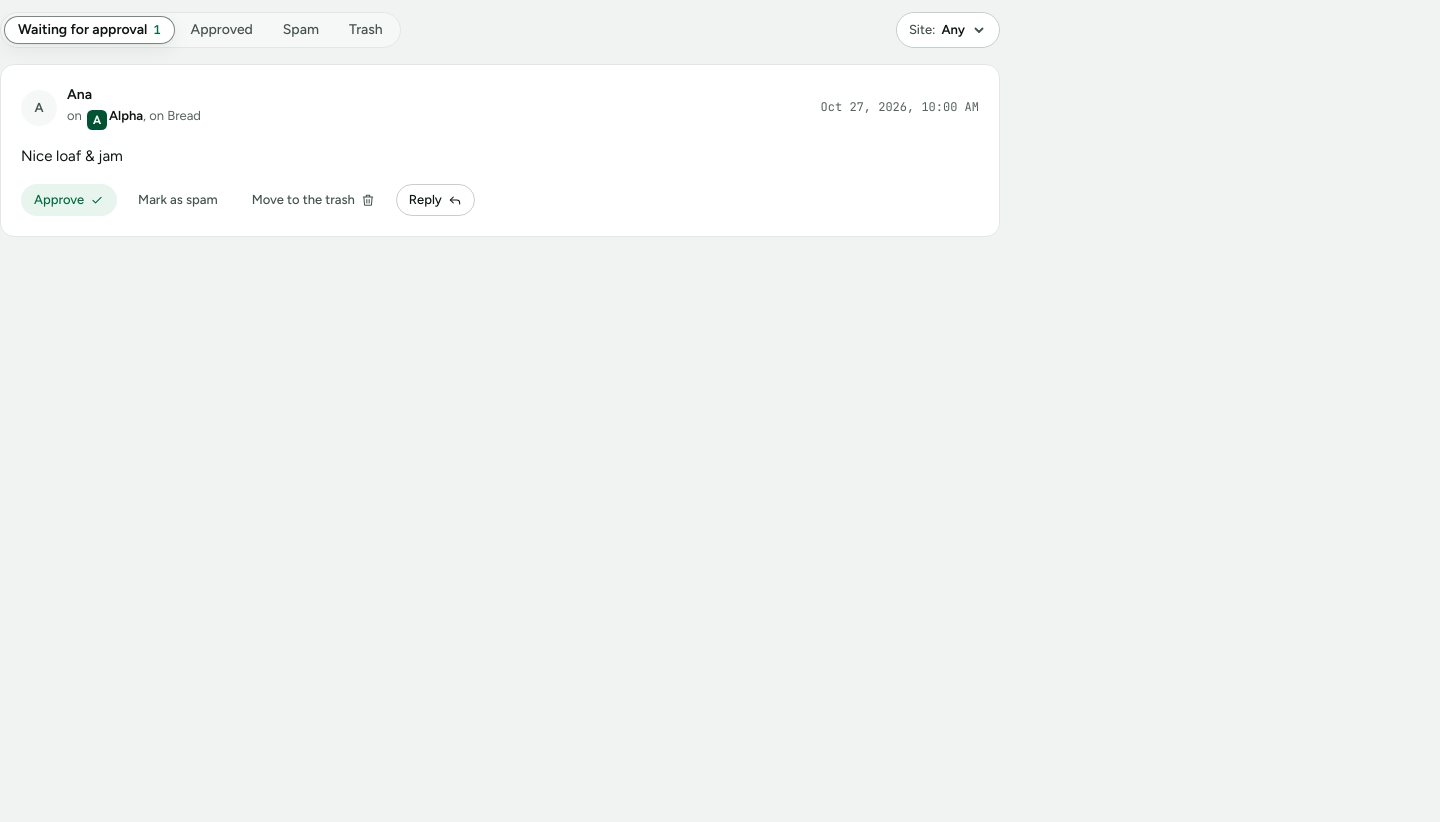
Test: Comments › approves, replies and switches lists
Click the button with aria-label "Approve Ana's comment on Alpha" at (69, 200), box [21,184,117,216]
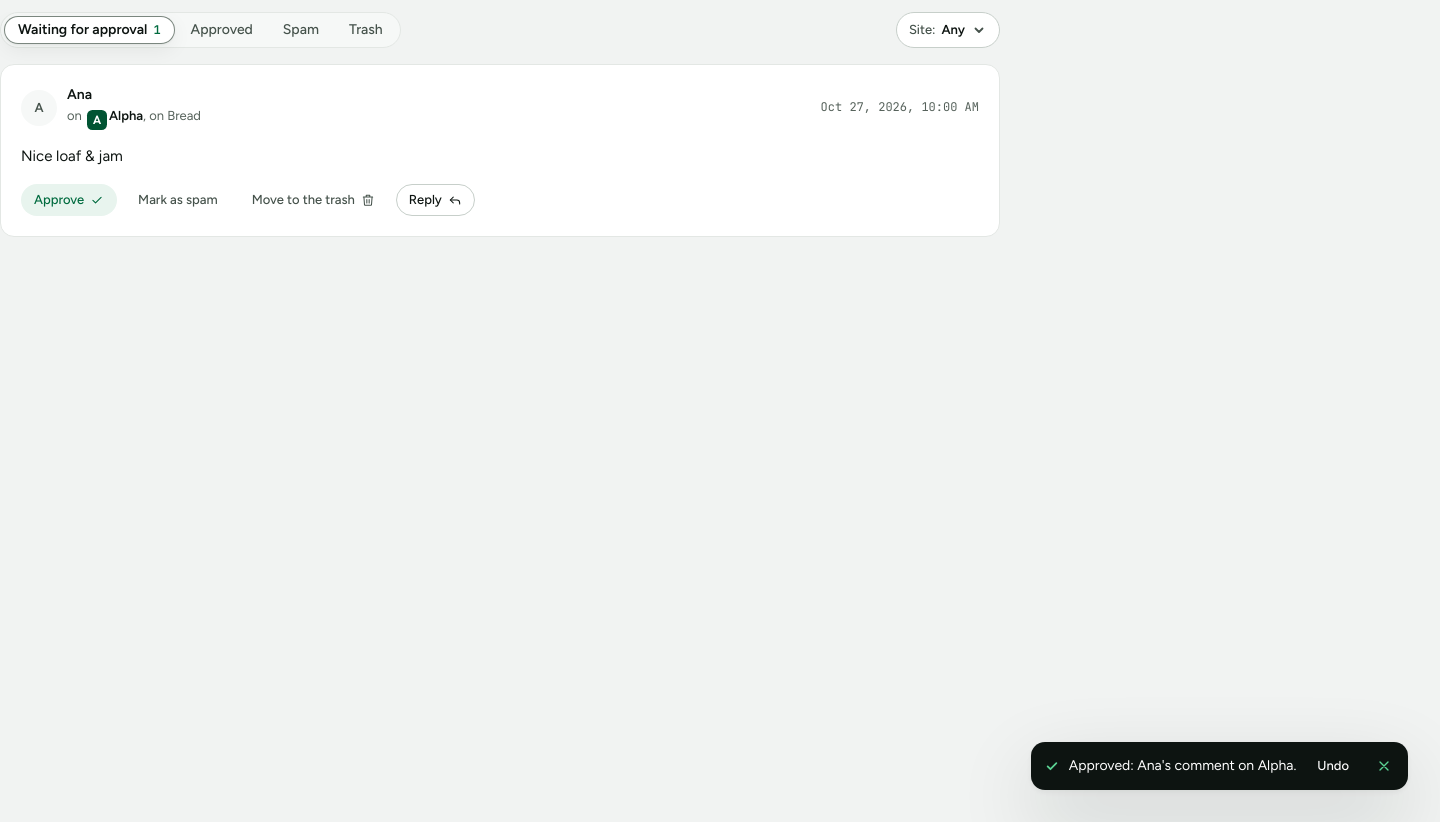
Result: the text "Approved: Ana's comment on Alpha." is shown at [1069,756,1296,776]
Click the button "Undo" at (1333, 766), box [1306,752,1360,780]
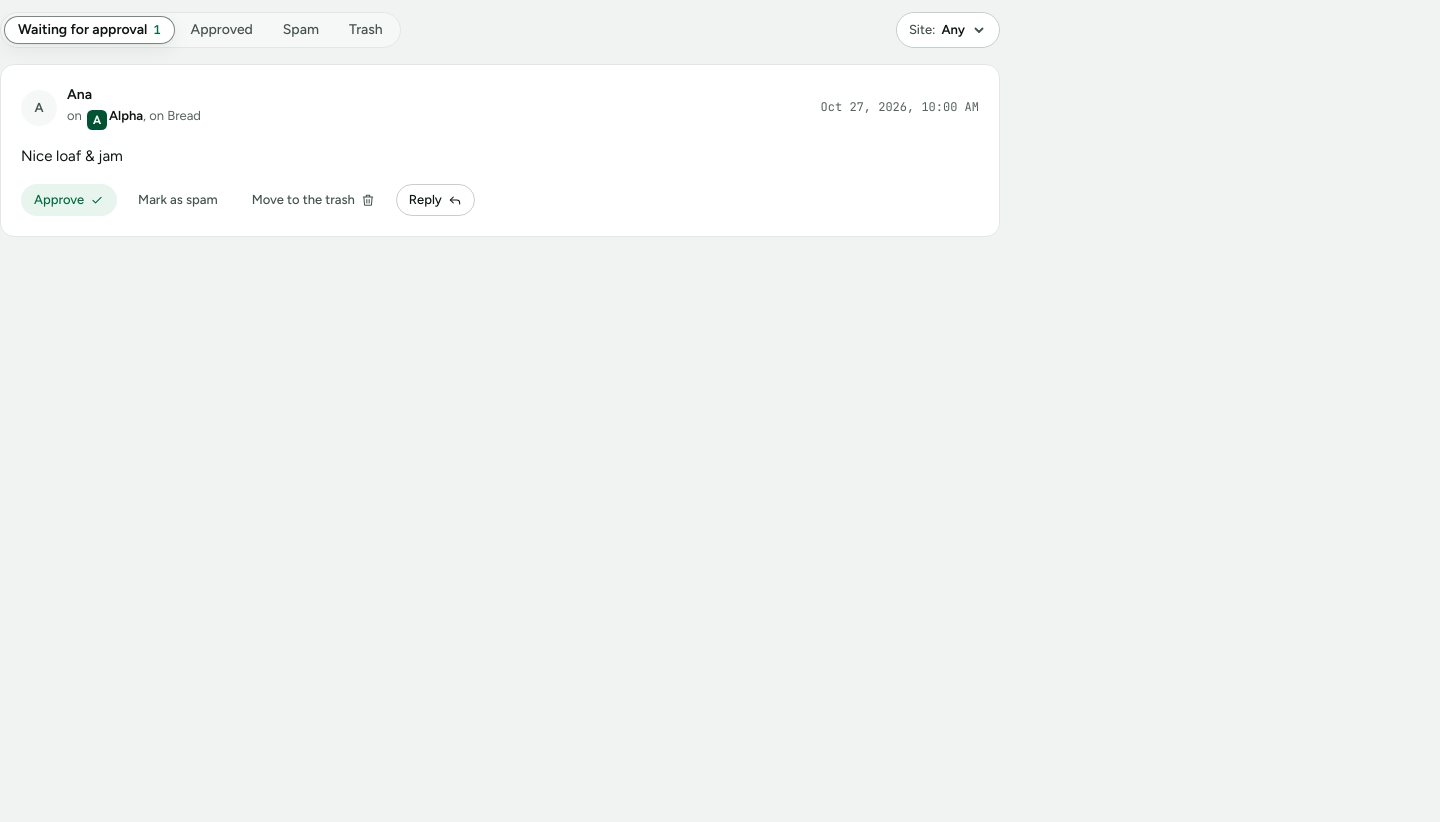
Click the button with aria-label "Reply to Ana on Alpha" at (435, 200), box [396,184,475,216]
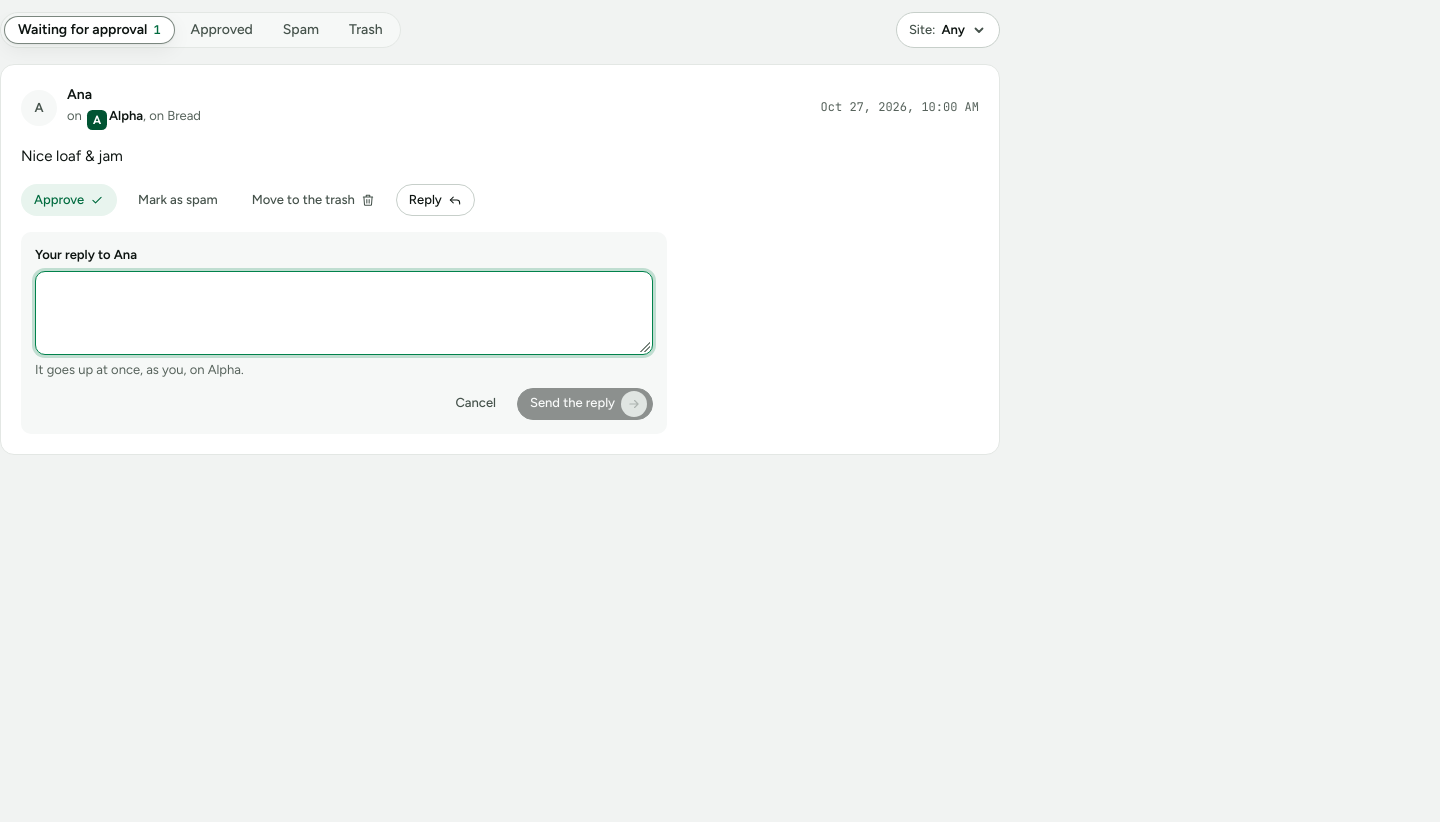
Result: the button "Send the reply" is disabled at [517,388,653,420]
Type "Thanks!" into the text box labelled "Your reply to Ana It goes up at once, as you, on Alpha." at (344, 313), box [35,271,653,355]
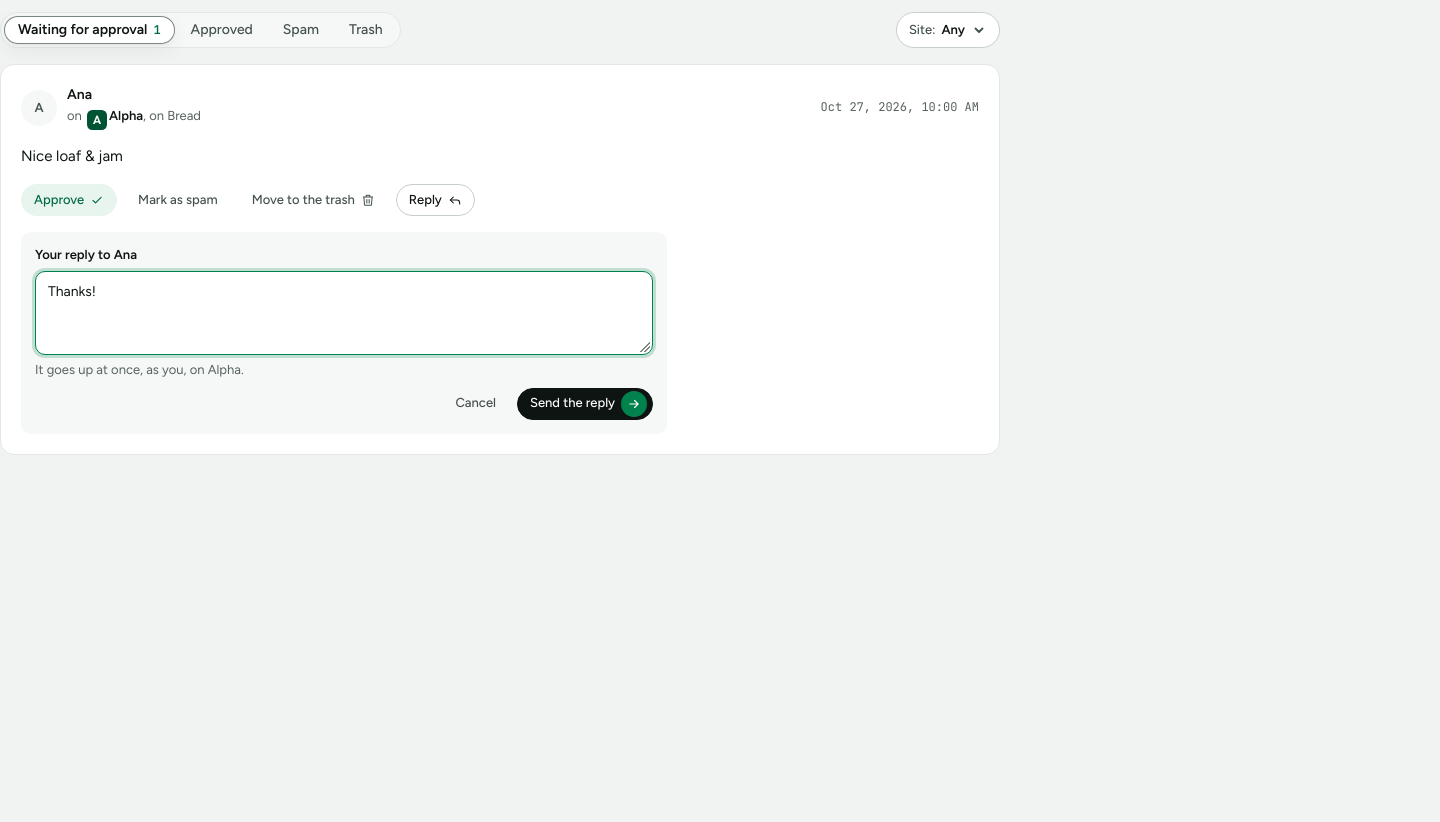
Click the button "Send the reply" at (585, 404), box [517,388,653,420]
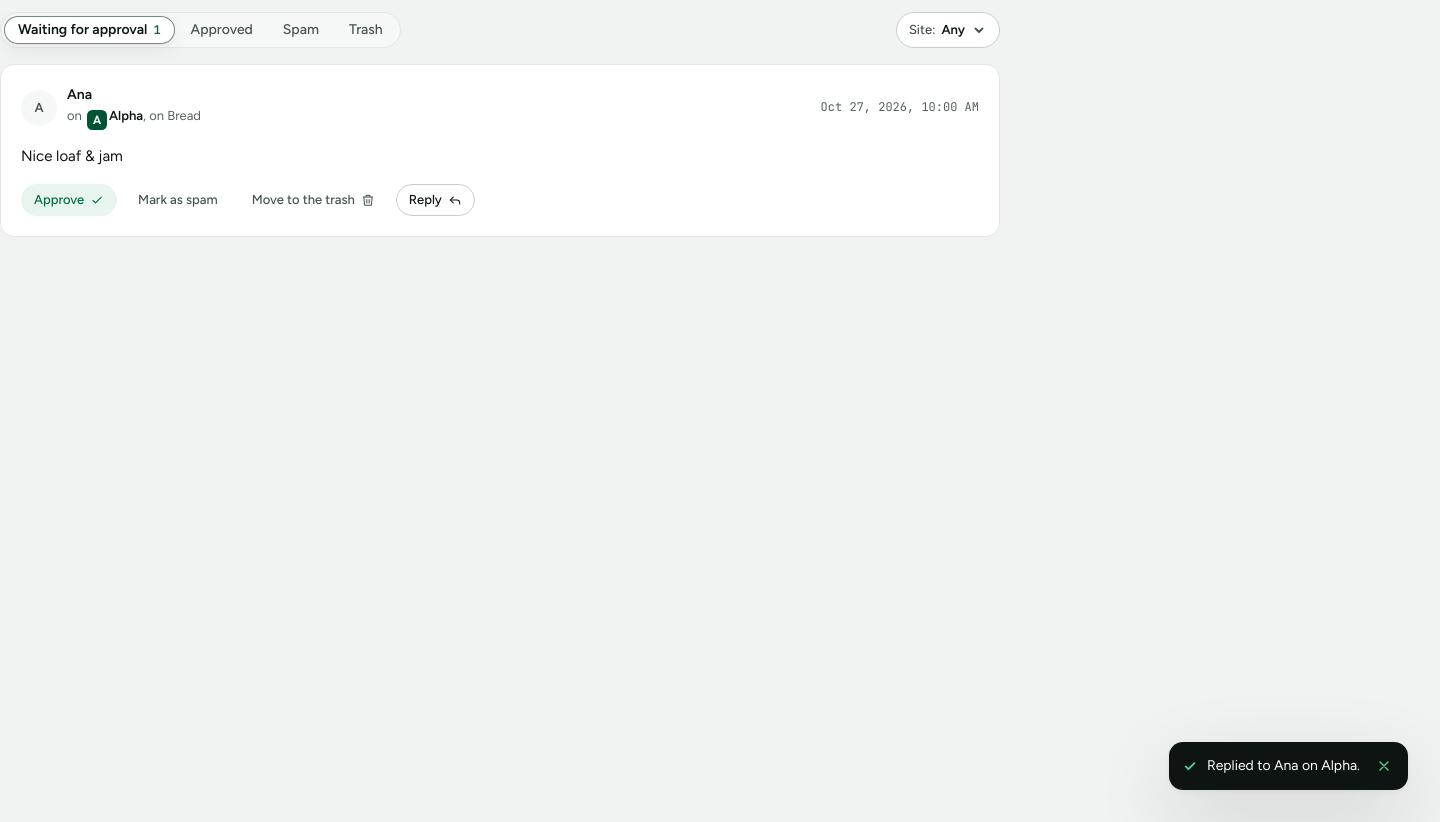
Result: the text "Replied to Ana on Alpha." is shown at [1207,756,1360,776]
Click the button "Spam" at (301, 30), box [269,16,333,44]
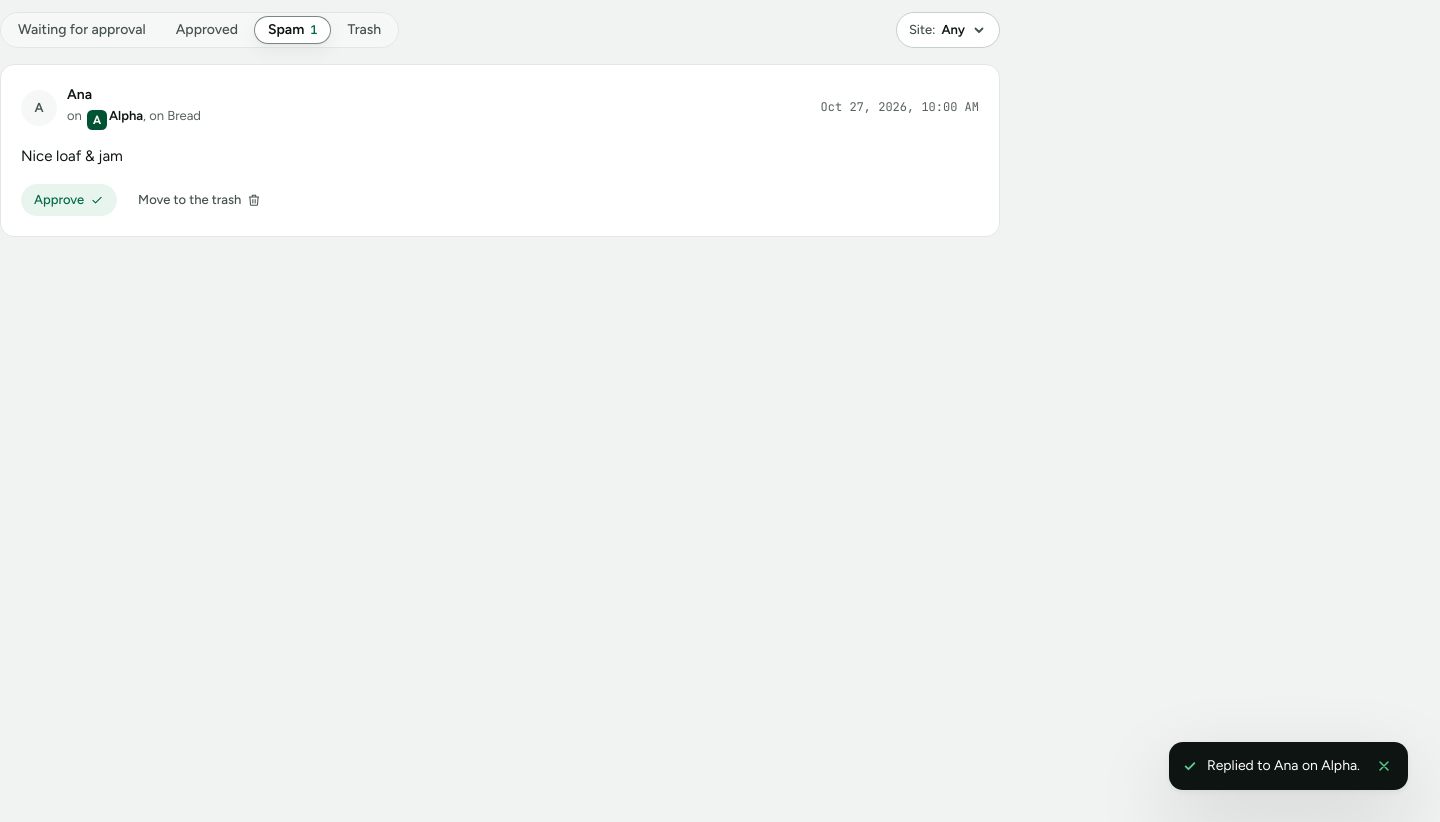
Expected: the button with aria-label "Approve Ana's comment on Alpha" is shown, [21,184,117,216]
Result: the button "Mark as spam" is gone
